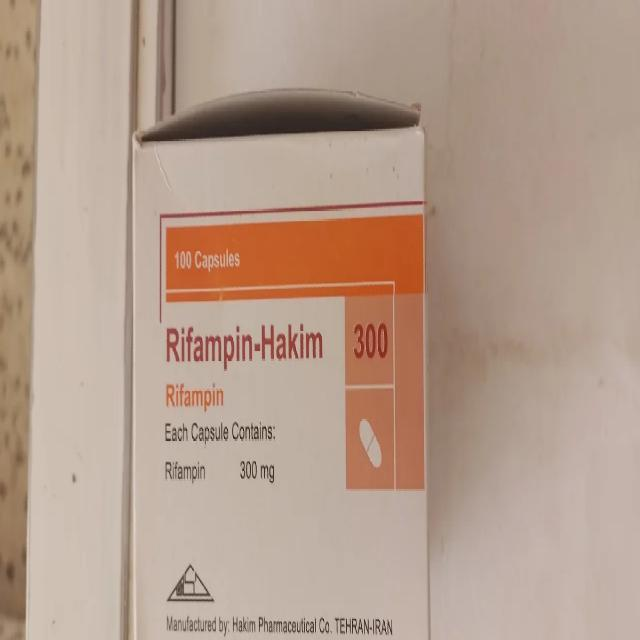drug-name: (160, 318, 392, 376)
